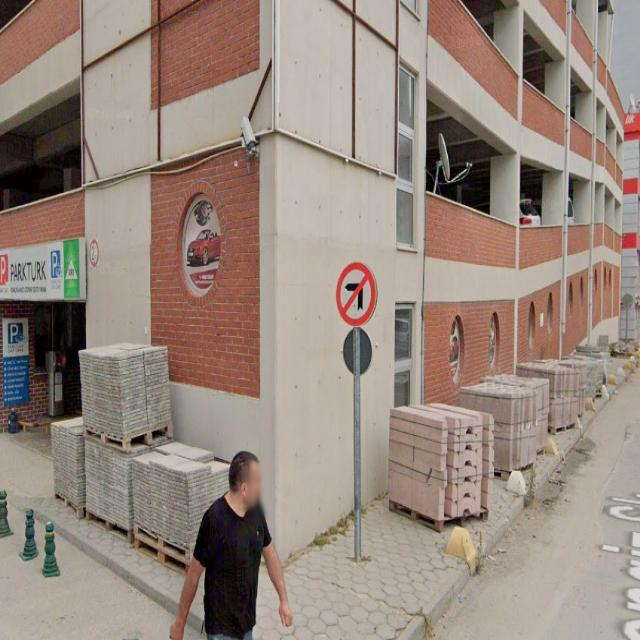soladonulmez: (336, 261, 376, 326)
